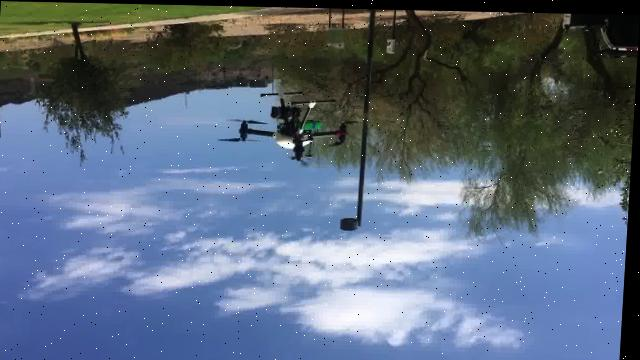drone: (232, 88, 355, 162)
